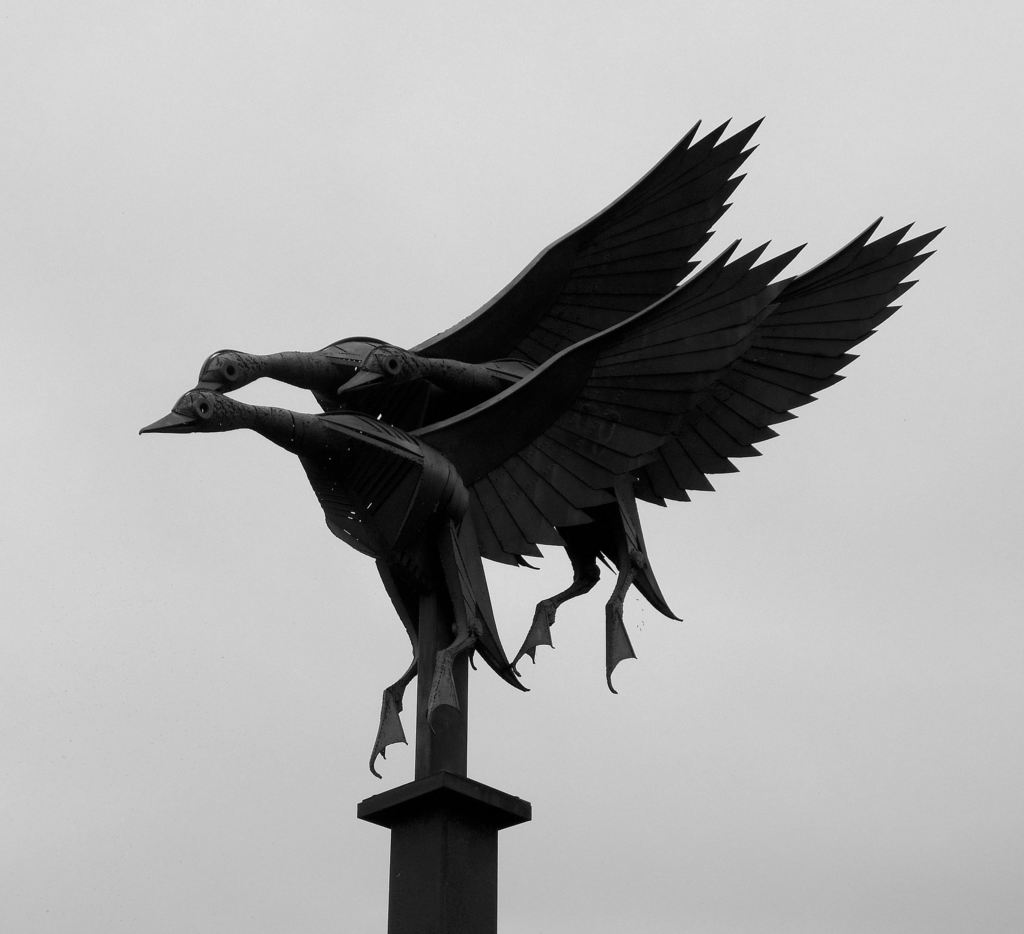person: (139, 332, 571, 691)
